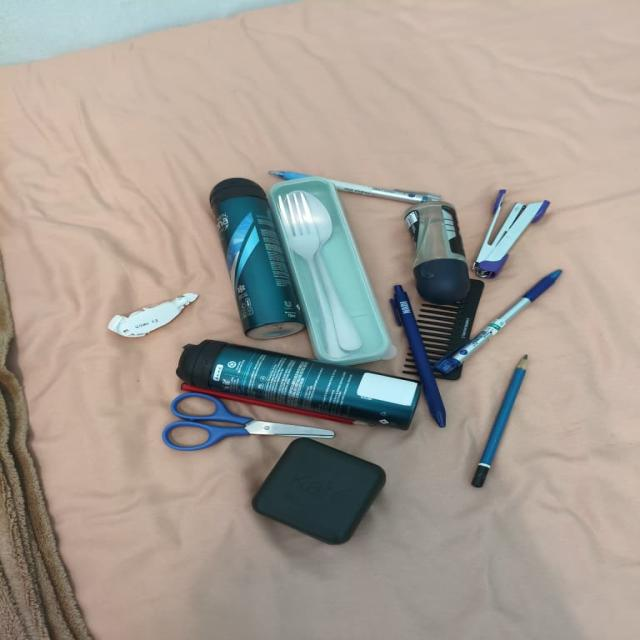pen: (434, 269, 561, 374), (390, 285, 445, 428), (329, 179, 439, 203), (270, 171, 311, 180)
pencil: (181, 383, 367, 424), (472, 355, 527, 488)
scissor: (162, 392, 333, 450)
stapler: (472, 190, 549, 278)
